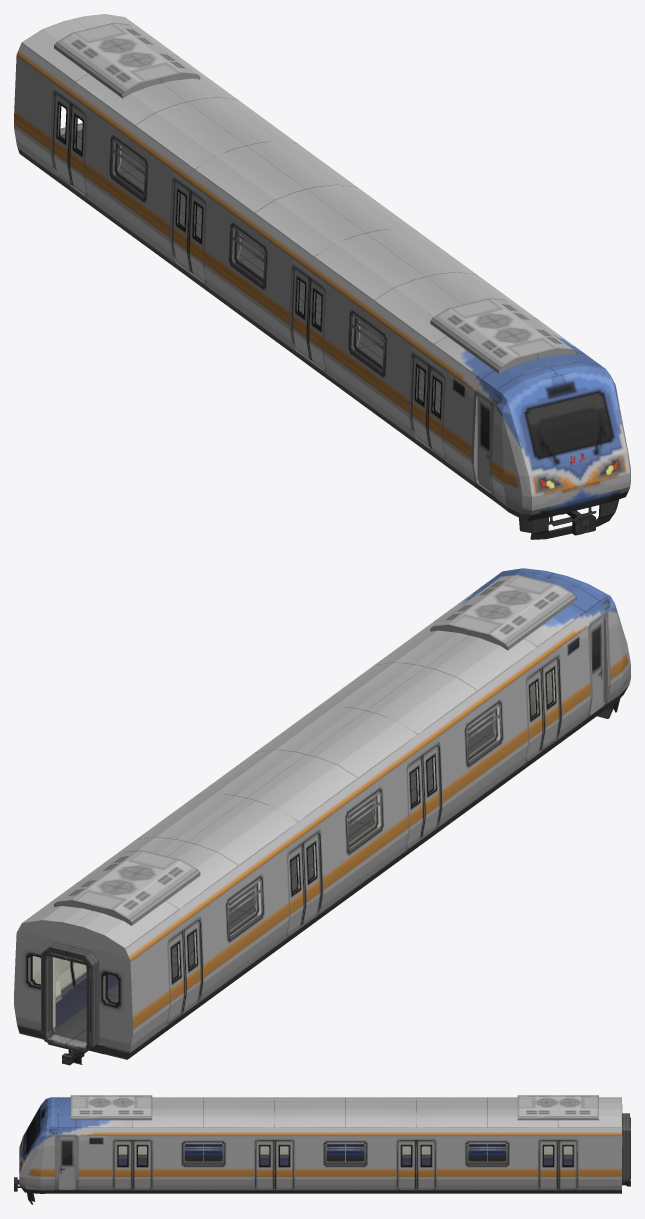
Rendered from dkz_5.obj.
3 views of the same model, one above another, from view 1: azimuth 30°, elevation 25°; view 2: azimuth 150°, elevation 25°; view 3: azimuth 270°, elevation 25° (orthographic). The views are drawn at different scales.
Visible parts, largest first — view 1: window_exterior, head_exterior, end_exterior, door_right_negative_exterior, door_right_positive_exterior, window; view 2: window_exterior, end_exterior, head_exterior, door_right_positive_exterior, door_right_negative_exterior, window, end, head; view 3: window_exterior, head_exterior, end_exterior, door_left_negative_exterior, door_left_positive_exterior, window, door_right_negative, door_right_positive.
Part boxes in pixels (x1,y1,x2,y2): window_exterior: [70, 55, 536, 454]; head_exterior: [428, 298, 630, 539]; end_exterior: [14, 14, 200, 192]; door_right_negative_exterior: [52, 92, 430, 447]; door_right_positive_exterior: [69, 103, 444, 457]; window: [112, 125, 440, 413]; window_exterior: [75, 620, 542, 1020]; end_exterior: [14, 850, 200, 1065]; head_exterior: [430, 568, 630, 757]; door_right_positive_exterior: [182, 657, 560, 1012]; door_right_negative_exterior: [168, 668, 543, 1022]; window: [75, 690, 500, 996]; end: [28, 952, 118, 1051]; head: [467, 671, 552, 738]; window_exterior: [132, 1097, 558, 1193]; head_exterior: [14, 1095, 152, 1204]; end_exterior: [517, 1095, 630, 1193]; door_left_negative_exterior: [132, 1140, 577, 1189]; door_left_positive_exterior: [113, 1140, 558, 1189]; window: [138, 1127, 552, 1165]; door_right_negative: [138, 1140, 572, 1157]; door_right_positive: [118, 1146, 552, 1157].
Bounding box in the file's own units: 2.88 × 3.56 × 21.75.
4 materials, 4 textured.
